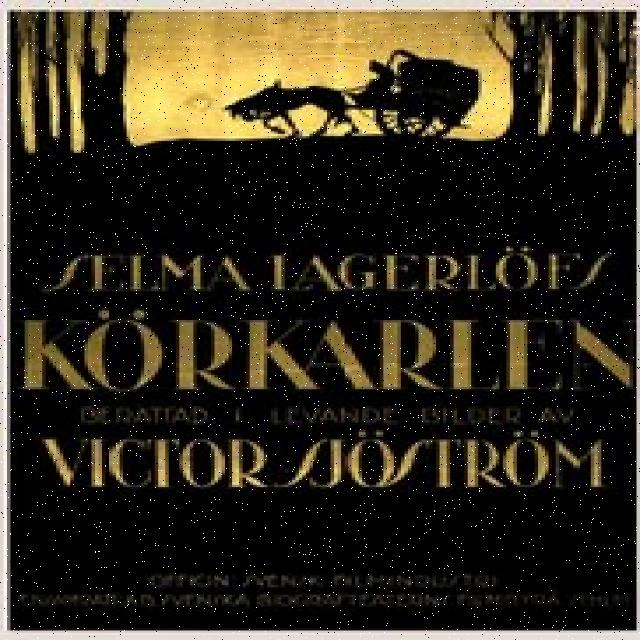movie-judul: (12, 239, 640, 503)
picture: (188, 33, 516, 164)
